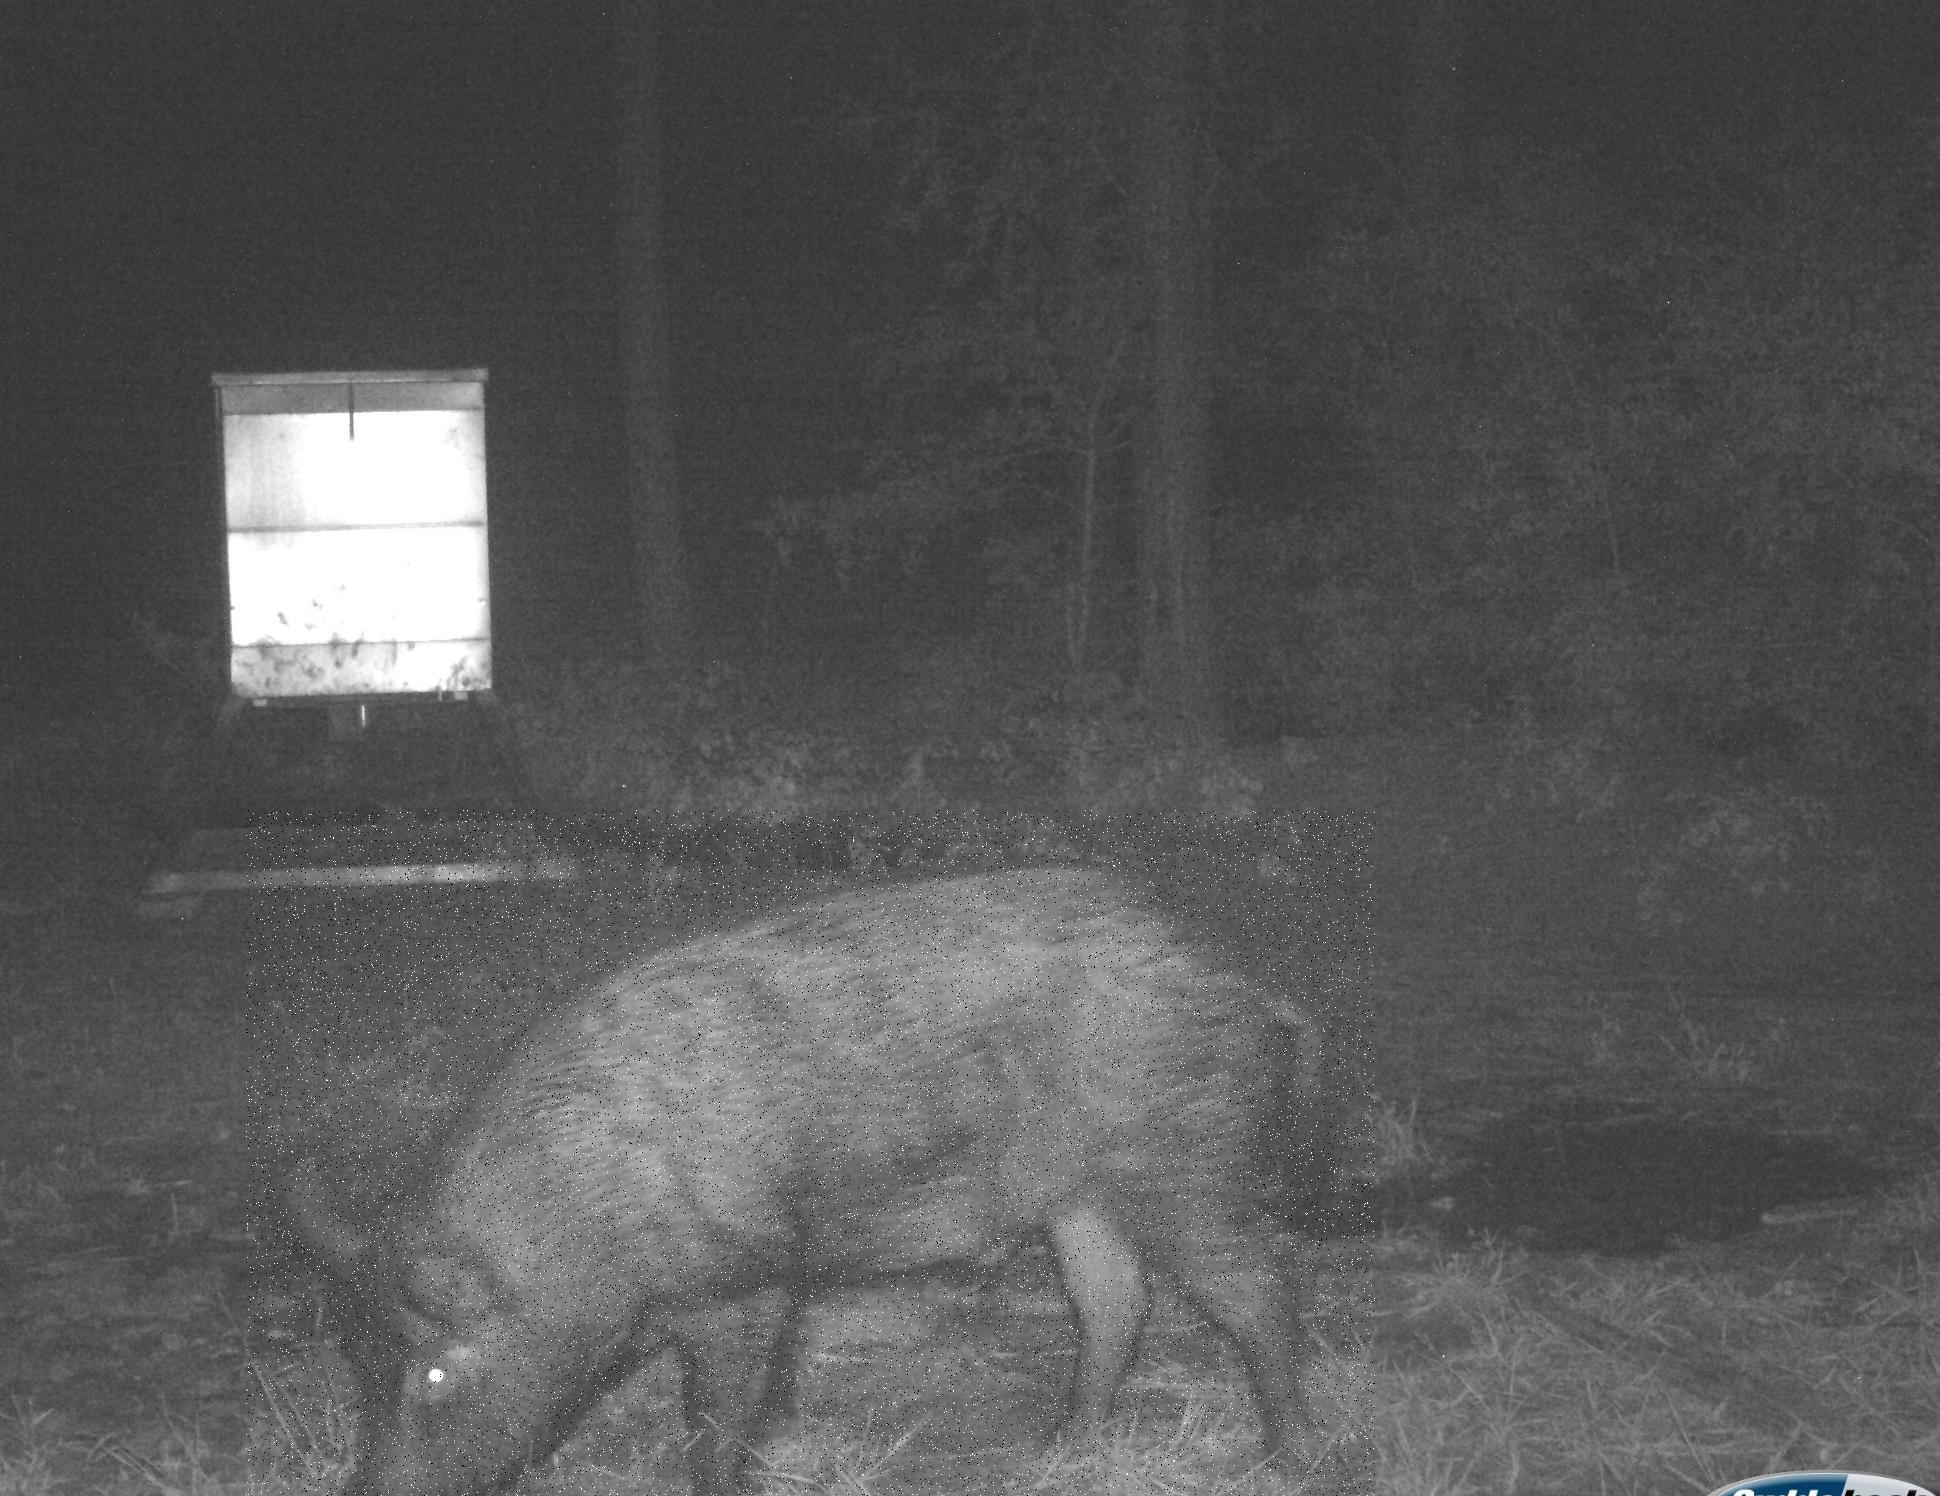Hog: (247, 809, 1374, 1496)
